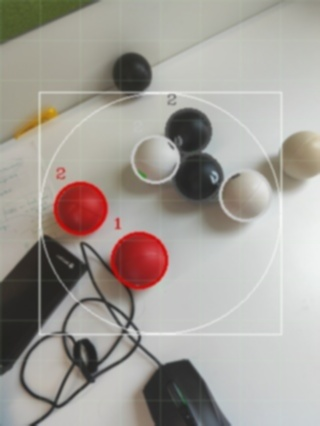Pelota blanca: (18, 331, 84, 411), (217, 169, 273, 222), (129, 134, 179, 184), (279, 129, 320, 179)
Pelota negra: (143, 358, 230, 425), (172, 150, 225, 200), (164, 105, 211, 152), (111, 52, 153, 91)
Pelota roja: (108, 230, 169, 291), (52, 180, 107, 238)
